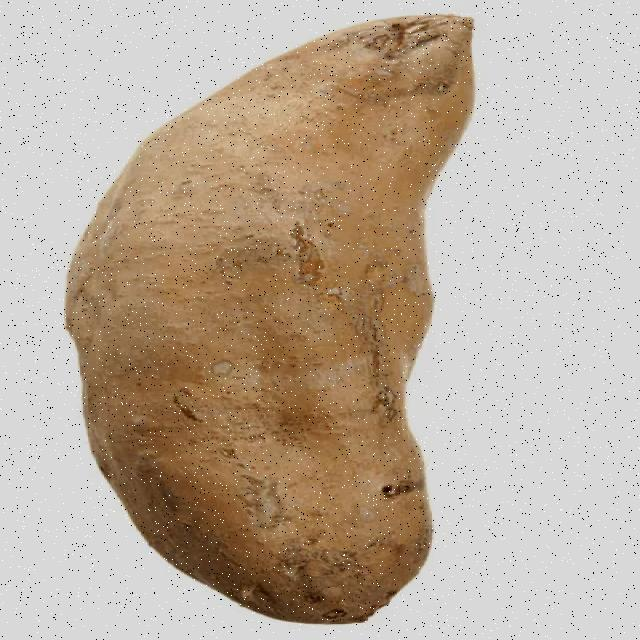Sweet Potato: (40, 0, 522, 640)
